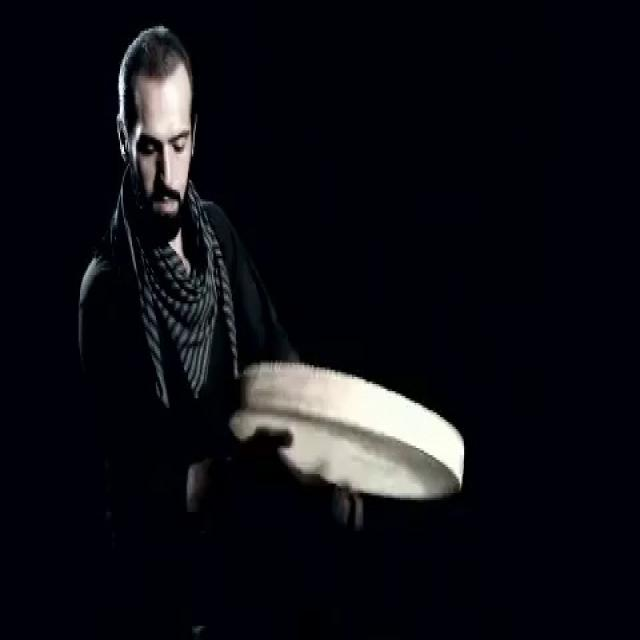Daf: (226, 348, 478, 515)
